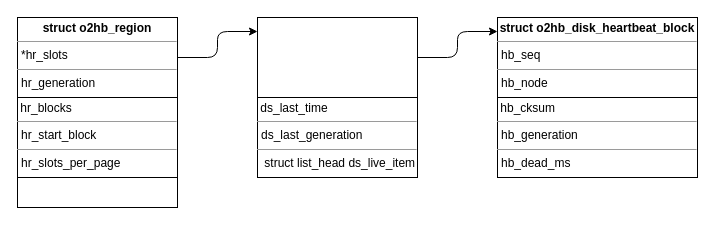
The diagram is 715 pixels wide and 225 high, and some of its shapes have lost their labels. The shapes that lost their labels are listed below. From the top down, each one's centre as x and y in pixels, then its label:
At (337,57): "struct o2hb_disk_slots *ds_raw_block ds_node_num".
At (97,192): "hr_num_pages".
